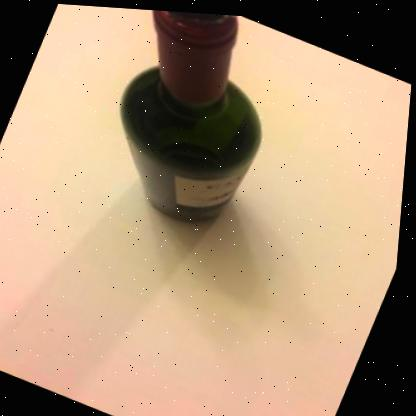Glass: (123, 8, 262, 219)
